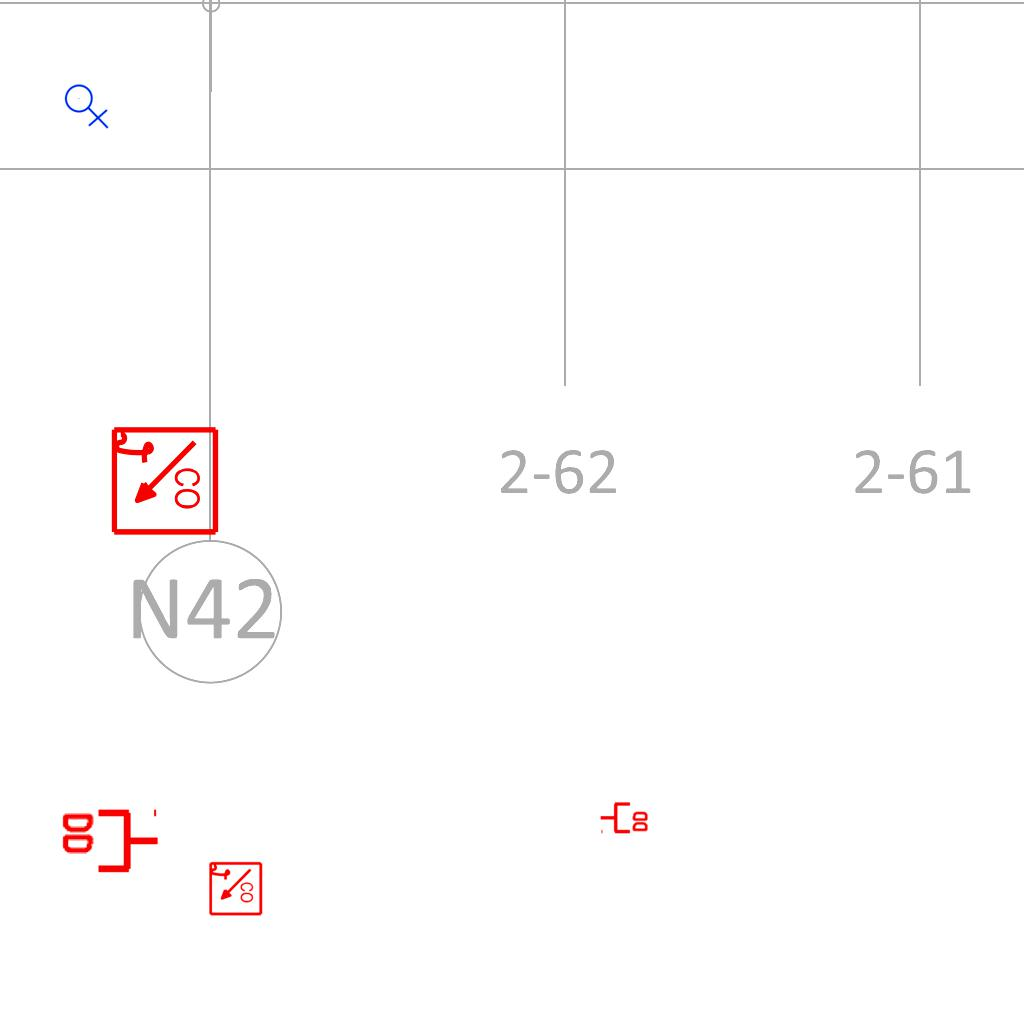Datenanschluss_zweifach: (58, 808, 161, 877), (599, 800, 650, 834)
Elektroanschluss_allgemein_230V_Geraeteanschlussdose_230V: (64, 80, 111, 129)
ROA_Rauchmelder_optisch_mit_Signalgeber_(Sockelsirene): (107, 425, 220, 538), (207, 861, 263, 917)
